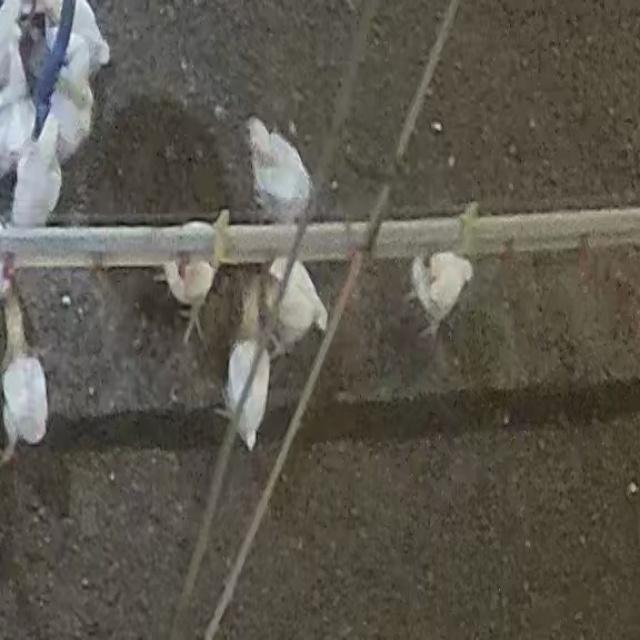chicken: (232, 106, 321, 228), (1, 292, 53, 466), (256, 258, 338, 362), (206, 337, 278, 454), (403, 250, 485, 342), (6, 108, 66, 224)
